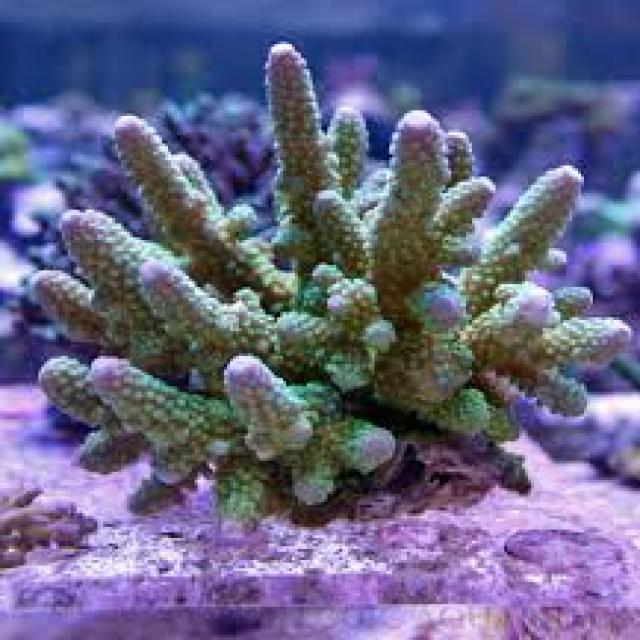Coral: (30, 39, 640, 518)
